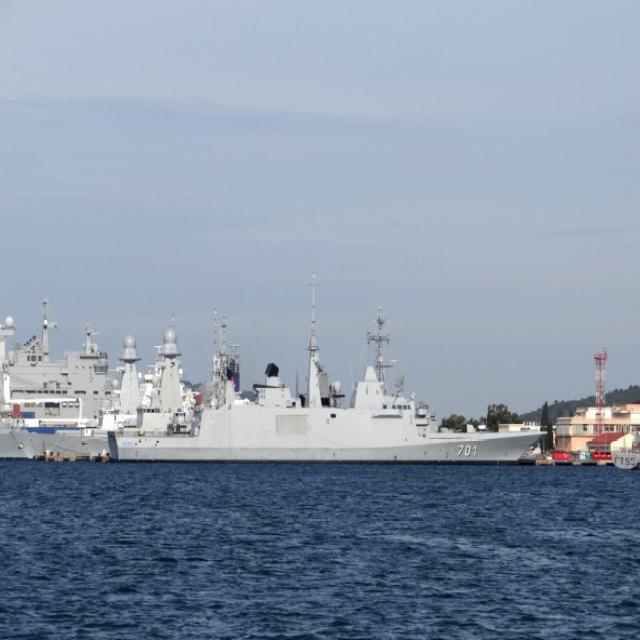Fragata: (104, 311, 550, 468)
